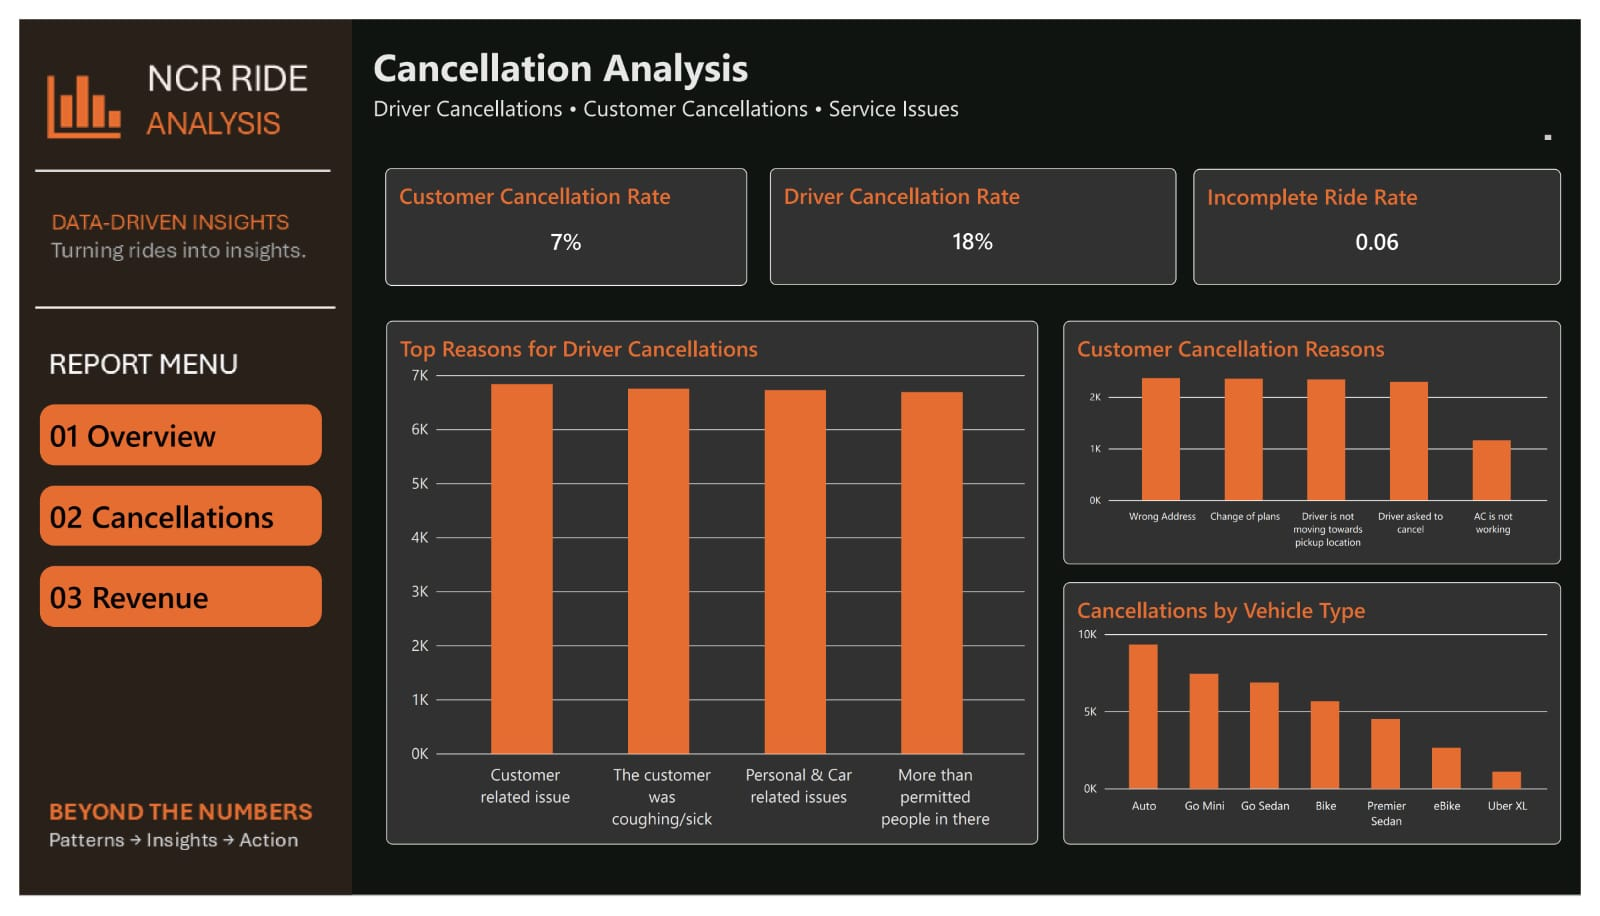

This screenshot's page, from the dashboard's own definition file:
{"tool":"powerbi","page":{"name":"Page 2","canvas":[1920,1080],"ordinal":1},"visuals":[{"type":"textbox","title":"Cancellation Analysis","box":[435.5,25.8,1448.4,122.6],"z":0},{"type":"card","title":"Customer Cancellation Rate","fields":{"Values":["uber_ride_cleaned.No Driver Found Rate"]},"box":[450,182.5,445,145],"z":1000},{"type":"card","title":"Driver Cancellation Rate","fields":{"Values":["uber_ride_cleaned.Driver Cancellation Rate"]},"box":[923.3,183.3,500,143.3],"z":2000},{"type":"card","title":"Incomplete Ride Rate","fields":{"Values":["uber_ride_cleaned.Incomplete Ride Rate"]},"box":[1444.4,184.4,451.1,142.2],"z":3000},{"type":"clusteredColumnChart","title":"Top Reasons for Driver Cancellations","fields":{"Category":["uber_ride_cleaned.Driver Cancellation Reason"],"Y":["CountNonNull(uber_ride_cleaned.Booking ID)"]},"box":[451.1,371.1,802.2,644.4],"z":4000},{"type":"clusteredColumnChart","title":"Customer Cancellation Reasons","fields":{"Category":["uber_ride_cleaned.Reason for cancelling by Customer"],"Y":["CountNonNull(uber_ride_cleaned.Booking ID)"]},"box":[1284.4,371.1,611.1,300],"z":5000},{"type":"clusteredColumnChart","title":"Cancellations by Vehicle Type","fields":{"Category":["uber_ride_cleaned.Vehicle Type"],"Y":["CountNonNull(uber_ride_cleaned.Booking ID)"]},"box":[1284.4,693.3,611.1,322.2],"z":6000},{"type":"actionButton","box":[24.8,474.5,347.6,74.5],"z":6001},{"type":"actionButton","box":[24.8,673.1,347.6,74.5],"z":6002},{"type":"actionButton","box":[24.8,573.8,347.6,74.5],"z":6003}]}

Visuals, with their boxes in screenshot pixels (x1, y1, x2, y2), scaled from the page's 1920x1080 canvas onto the 1600x916 screenshot:
"Cancellation Analysis" textbox: bbox(363, 22, 1570, 126)
"Customer Cancellation Rate" card: bbox(375, 155, 746, 278)
"Driver Cancellation Rate" card: bbox(769, 155, 1186, 277)
"Incomplete Ride Rate" card: bbox(1204, 156, 1580, 277)
"Top Reasons for Driver Cancellations" clusteredColumnChart: bbox(376, 315, 1044, 861)
"Customer Cancellation Reasons" clusteredColumnChart: bbox(1070, 315, 1580, 569)
"Cancellations by Vehicle Type" clusteredColumnChart: bbox(1070, 588, 1580, 861)
actionButton: bbox(21, 402, 310, 466)
actionButton: bbox(21, 571, 310, 634)
actionButton: bbox(21, 487, 310, 550)
